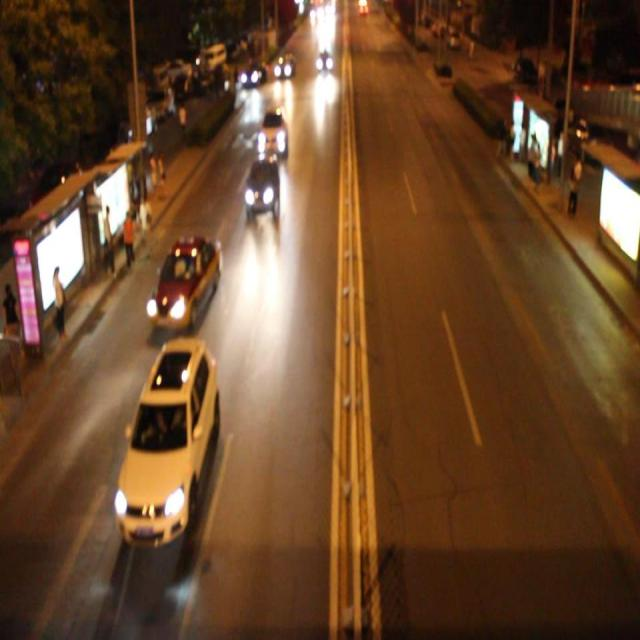car: (115, 337, 220, 545), (145, 233, 222, 331), (243, 155, 280, 215), (257, 109, 287, 154), (273, 52, 295, 80)
